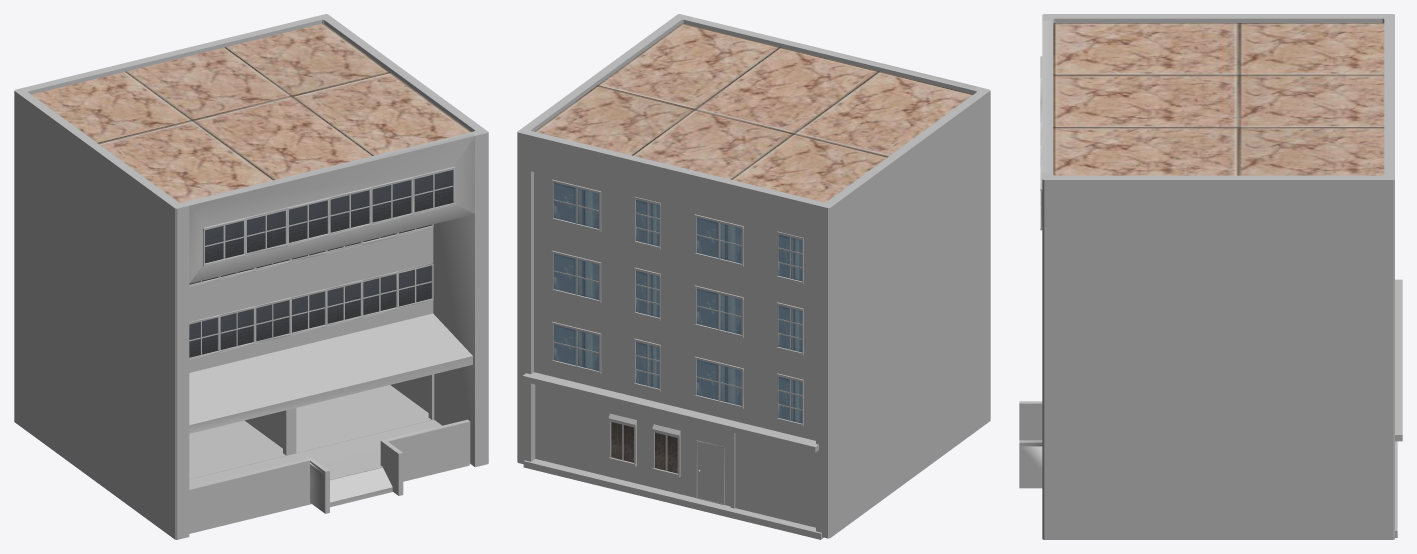
The model's file is bldg_mall_04a.fbx.
3 renders of one model, left to right at view 1: azimuth 30°, elevation 25°; view 2: azimuth 150°, elevation 25°; view 3: azimuth 270°, elevation 25°, orthographic. The views are drawn at different scales.
Visible parts, largest first — view 1: bldg_mall_04a; view 2: bldg_mall_04a; view 3: bldg_mall_04a.
Boxes of the visible parts, x1=… form: bldg_mall_04a: x1=14, y1=14, x2=488, y2=539; bldg_mall_04a: x1=517, y1=14, x2=990, y2=539; bldg_mall_04a: x1=1019, y1=14, x2=1402, y2=539.
Size of the model in its own units: 11.89 by 12.09 by 11.6.
